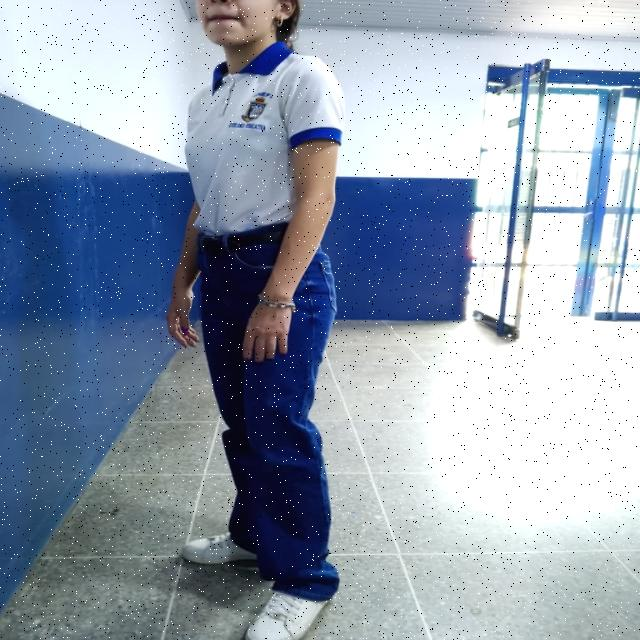pantalon_oscuro: (200, 247, 340, 602)
uniforme_superior: (184, 40, 346, 238)
